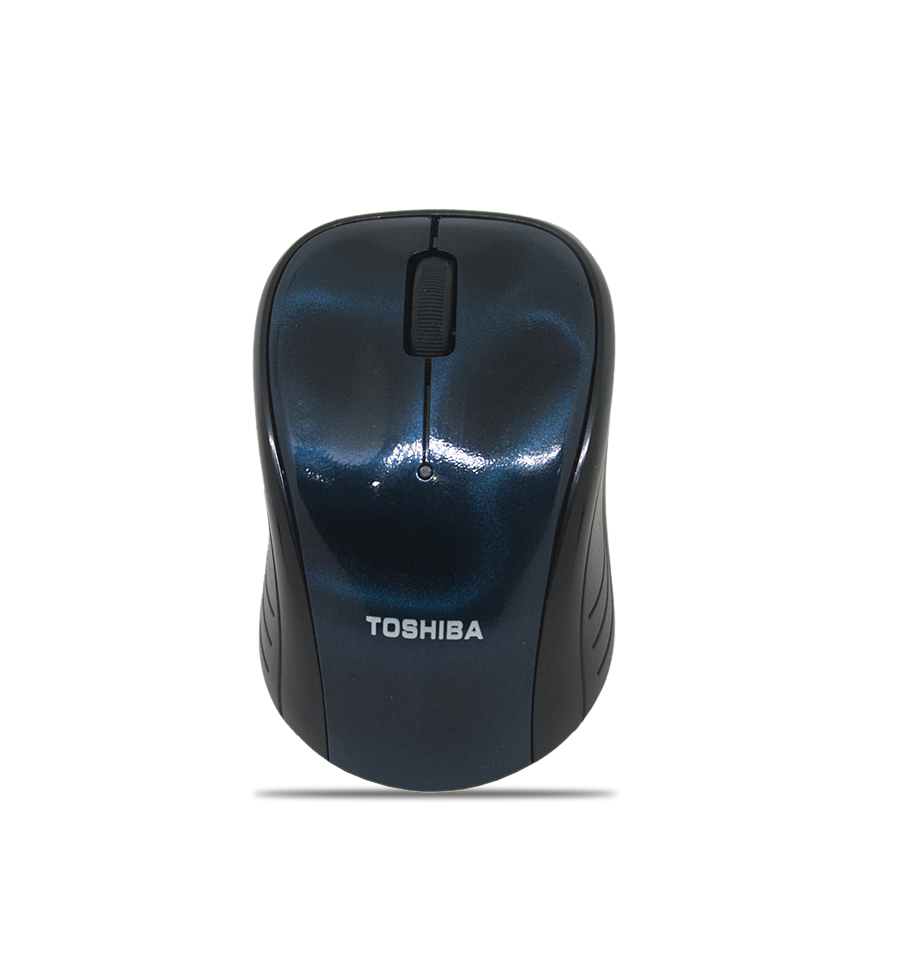Mouse: (237, 197, 625, 804)
